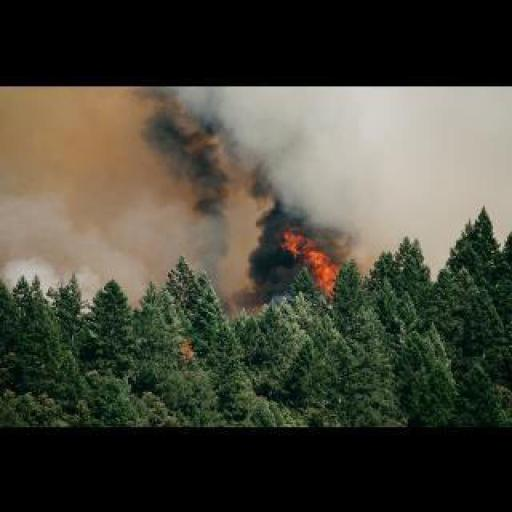smoke: (272, 226, 346, 296)
